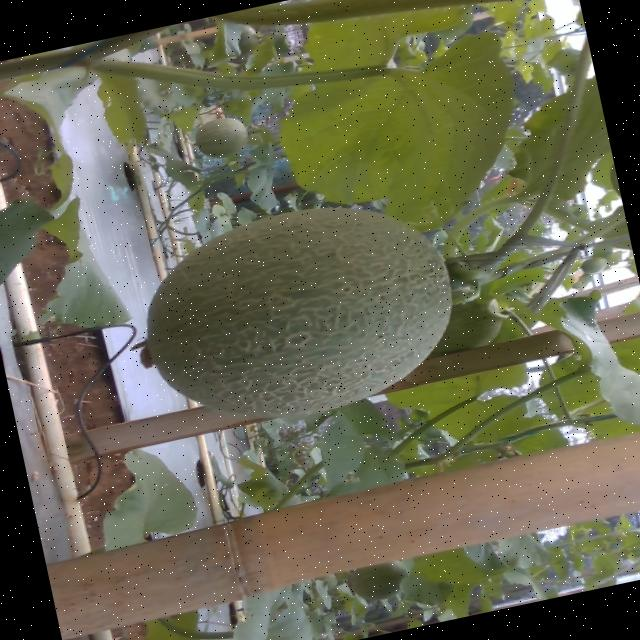melon: (146, 208, 448, 419)
